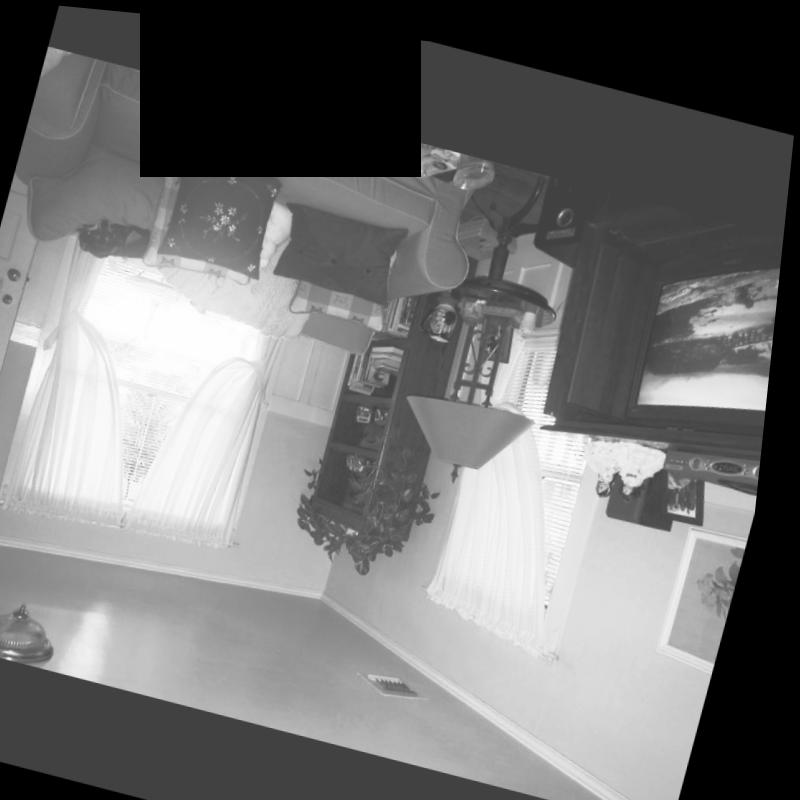pillow: (136, 153, 285, 282), (267, 191, 413, 299), (293, 217, 409, 328)
